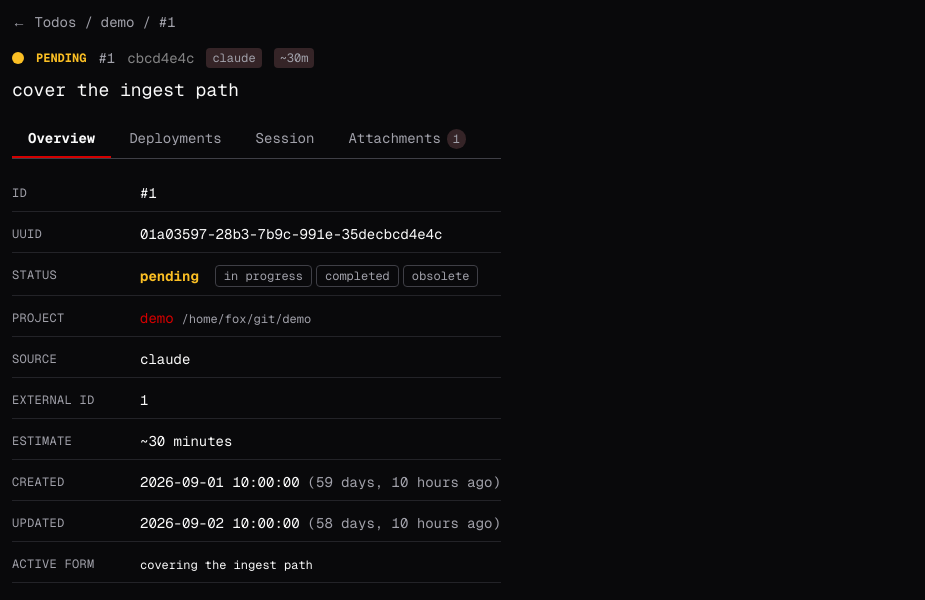
Test: todo detail › says so when a todo was never deployed
This screenshot has width=925, height=600.
What coordinates should you click on to do the following:
click the button "Deployments"
I would click on:
 (175, 139)
Its box is top-left (113, 120), bottom-right (238, 158).
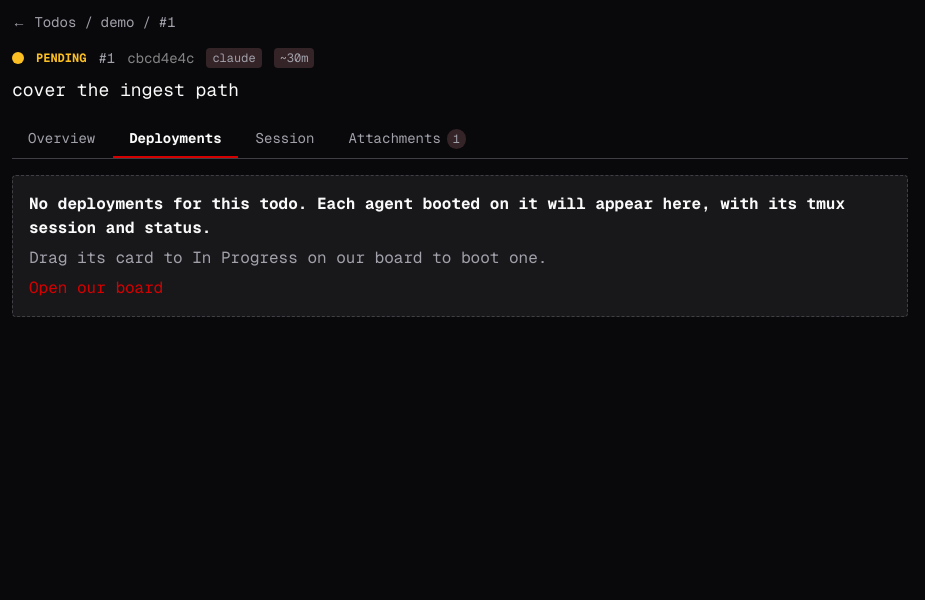
Check: the text "No deployments for this todo." is shown, box top-left (29, 193), bottom-right (845, 238)
Check: the text "Drag its card to In Progress" is shown, box top-left (29, 247), bottom-right (547, 268)
